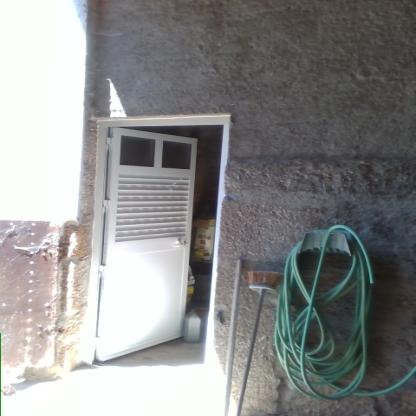semi: (86, 113, 230, 369)
